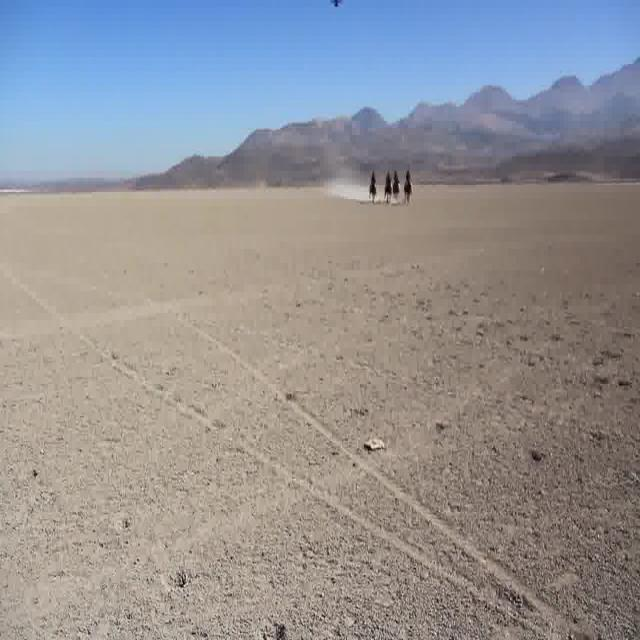drones: (322, 0, 352, 19)
